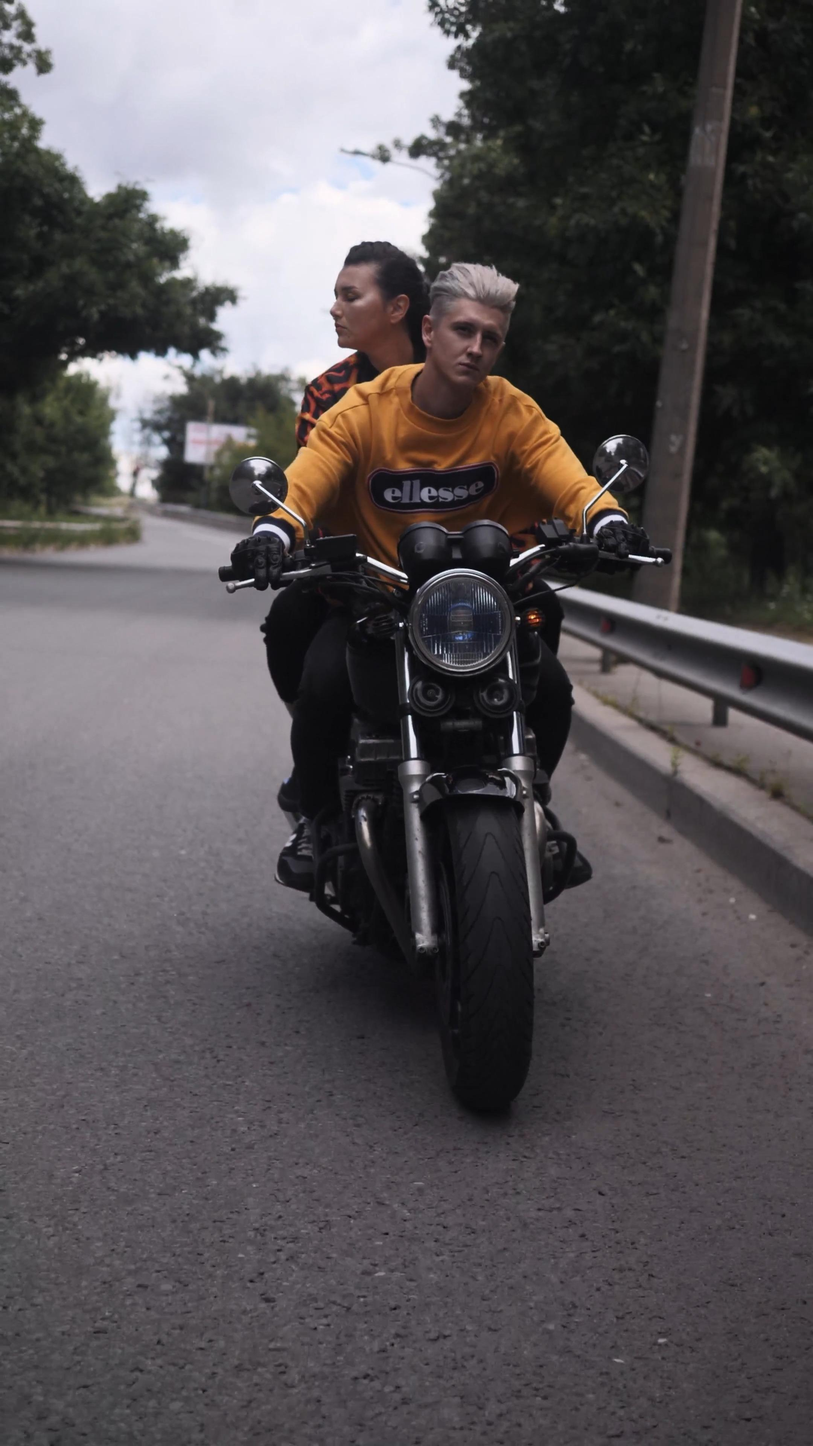driver: (216, 238, 675, 1116)
no-helmet: (421, 262, 518, 388), (330, 240, 430, 352)
